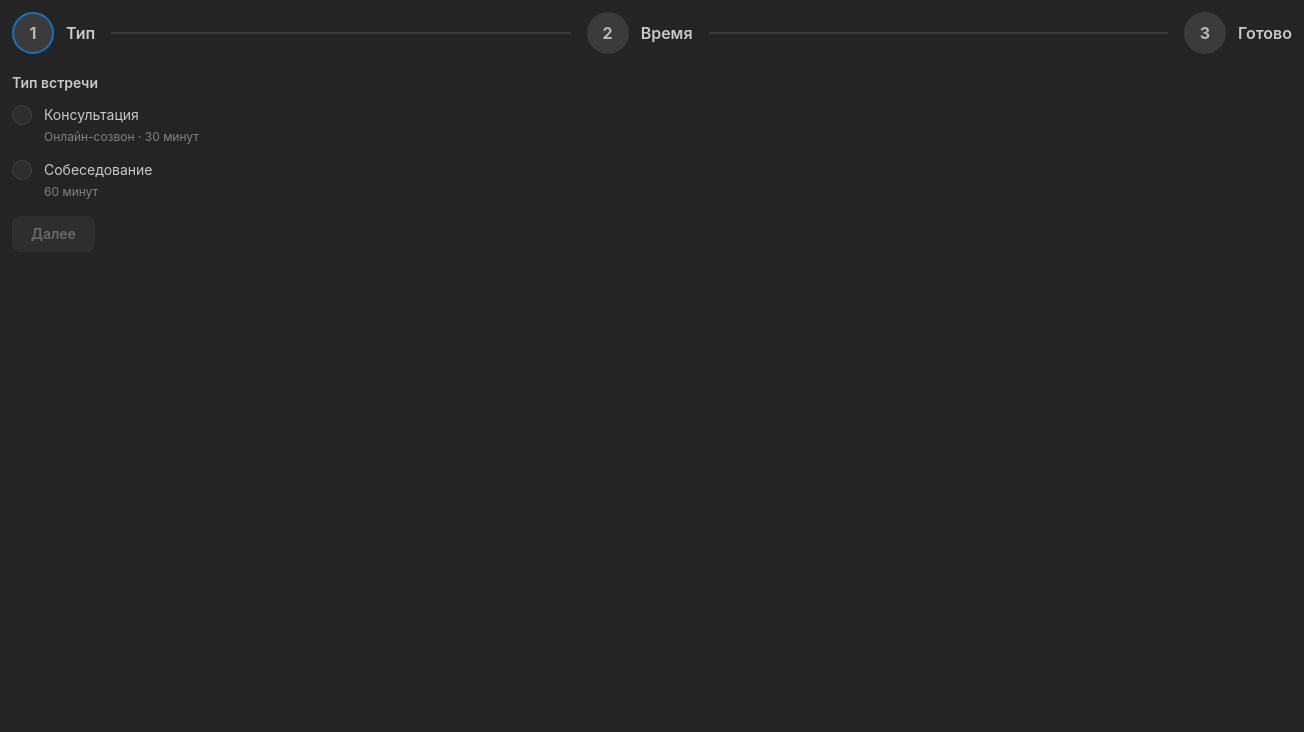
Test case: гостевой вид › «Далее» в подтверждение доступно только со слотом; сводка тип/дата/время
The image size is (1304, 732).
What coordinates should you click on to do the following:
click the radio button labelled "Консультация"
I would click on:
 (22, 115)
Its box is [12,105,32,125].
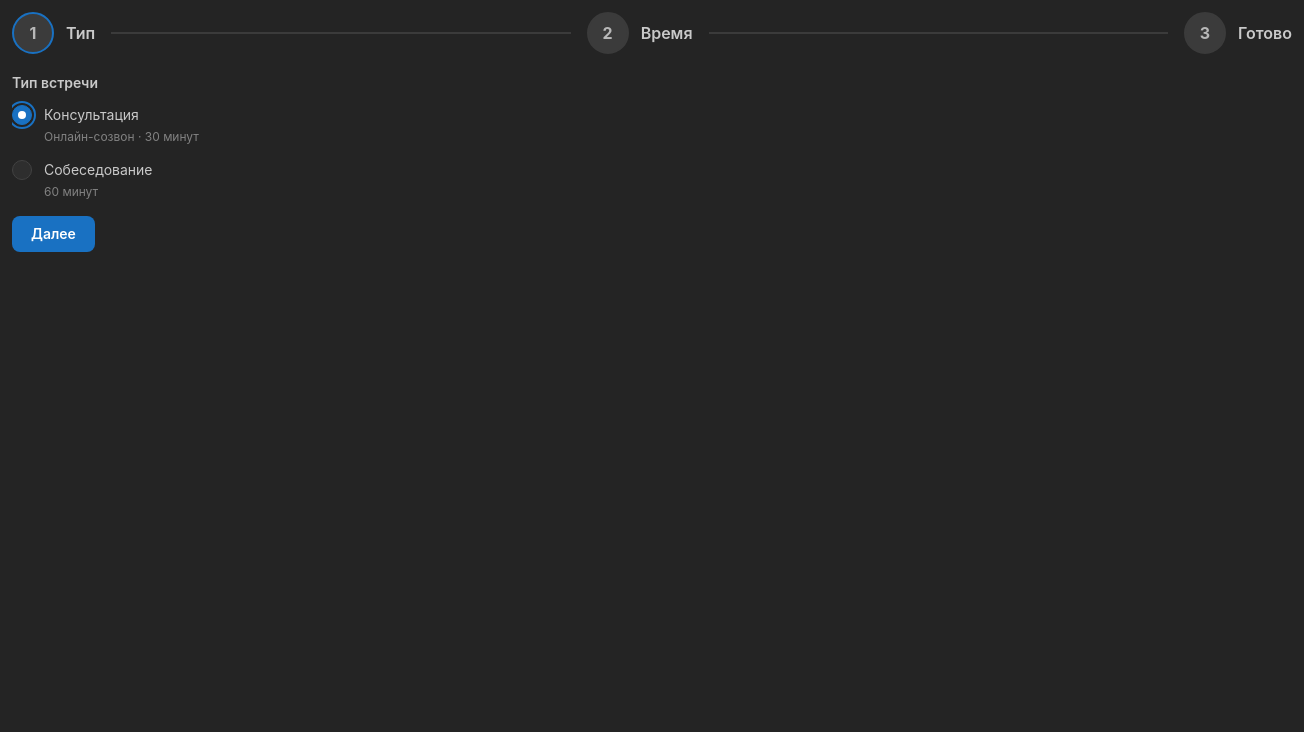
What coordinates should you click on to do the following:
click the button "Далее"
I would click on:
 (53, 234)
Its box is [12,216,95,252].
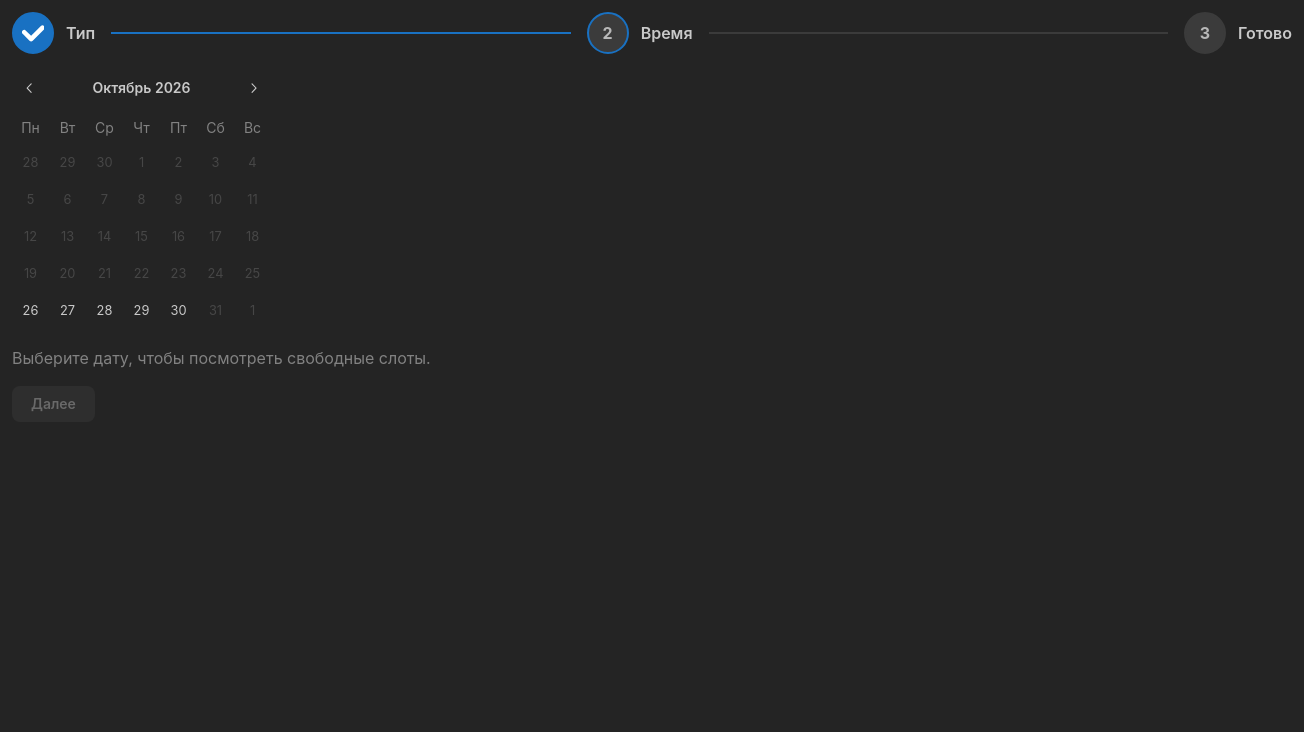
What coordinates should you click on to do the following:
click the button "26"
I would click on:
 (30, 311)
Its box is [12,293,48,329].
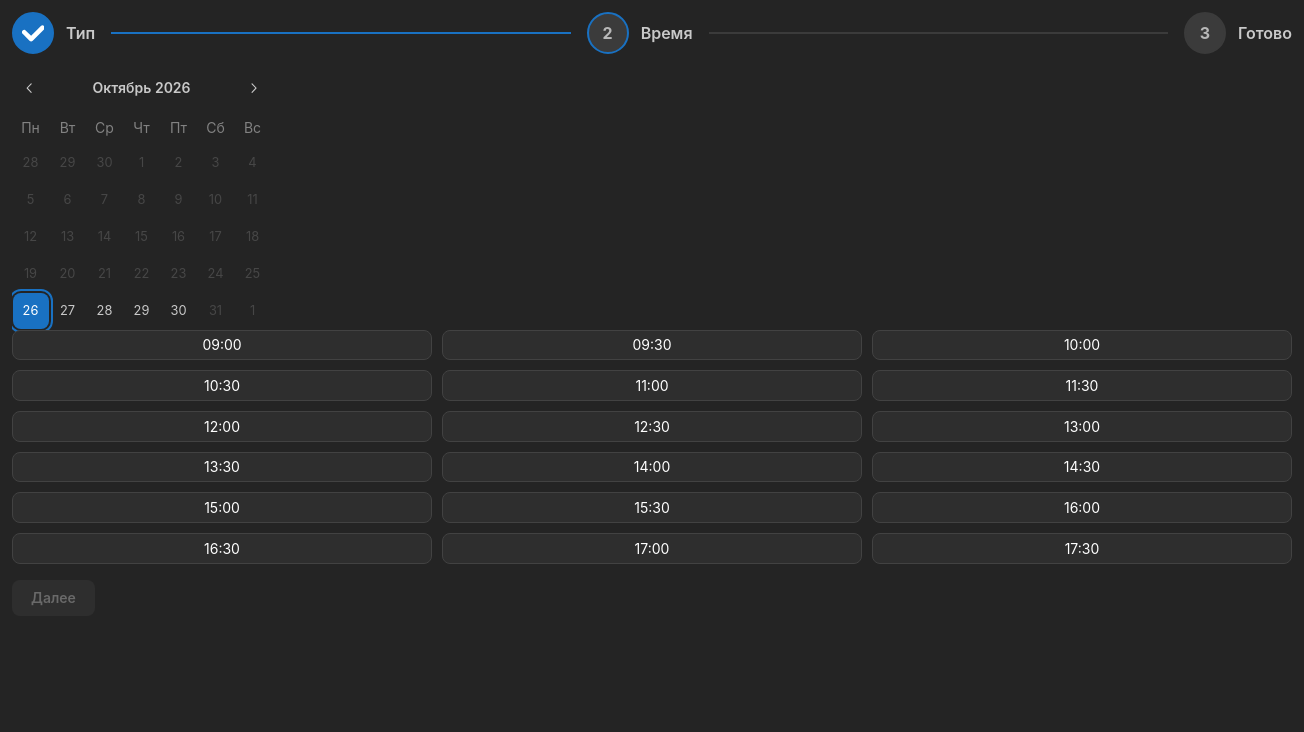
Check: the button "Далее" is disabled, box [12,580,95,616]
What coordinates should you click on to do the following:
click the button "11:00"
I would click on:
 (652, 386)
Its box is [442,370,862,401].
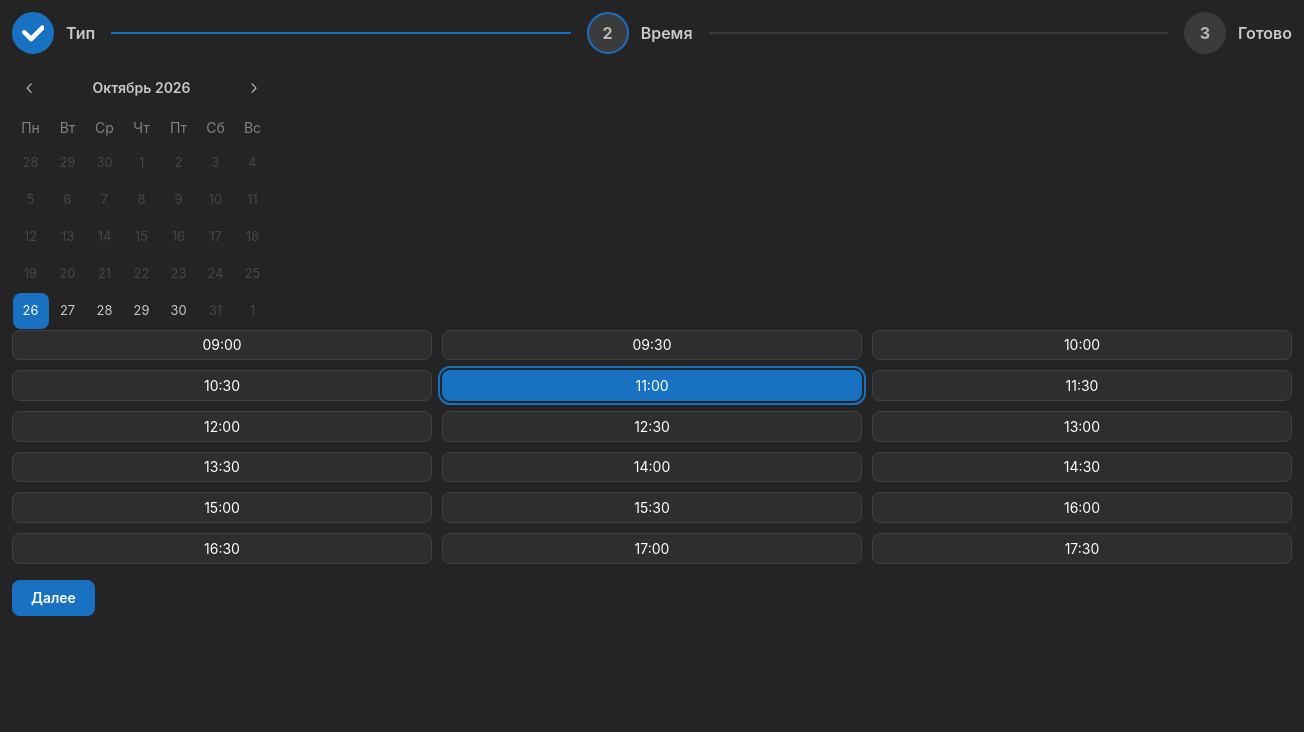
What coordinates should you click on to do the following:
click the button "Далее"
I would click on:
 (53, 598)
Its box is [12,580,95,616].
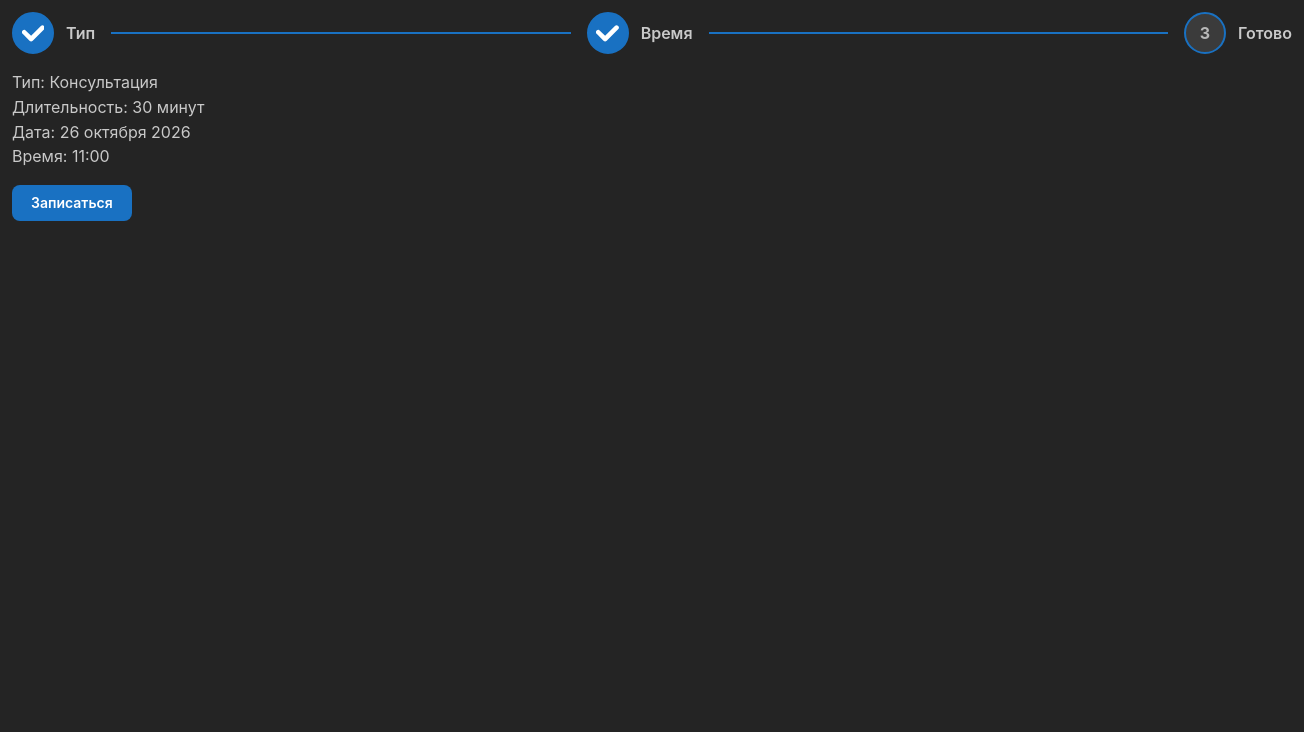
Check: the text "Тип: Консультация" is shown, box [12,72,158,92]
Check: the text "Длительность: 30 минут" is shown, box [12,97,204,117]
Check: the text "Время: 11:00" is shown, box [12,146,110,166]
